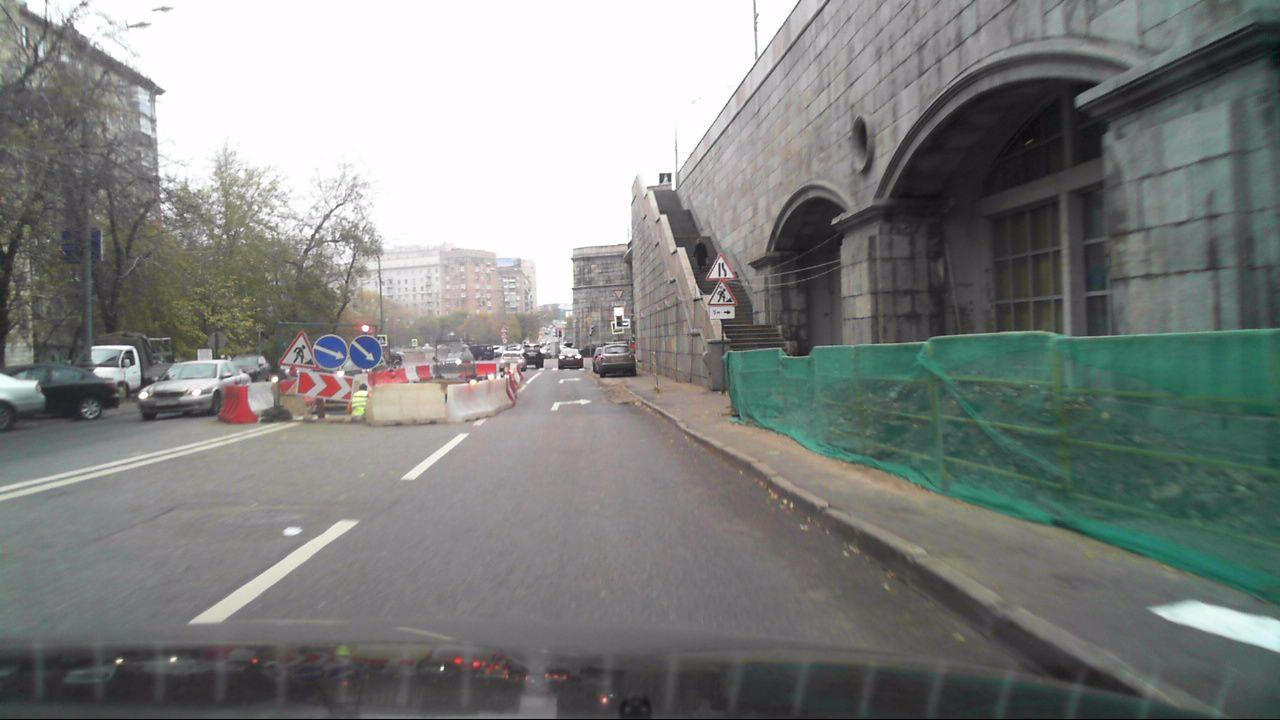1_20_2: (704, 252, 738, 279)
1_25: (281, 331, 315, 366), (708, 282, 736, 304)
1_34_1: (295, 367, 354, 402)
2_4: (614, 289, 625, 302)
4_2_1: (315, 330, 348, 369), (349, 332, 382, 370)
8_1_3: (709, 304, 735, 320)
